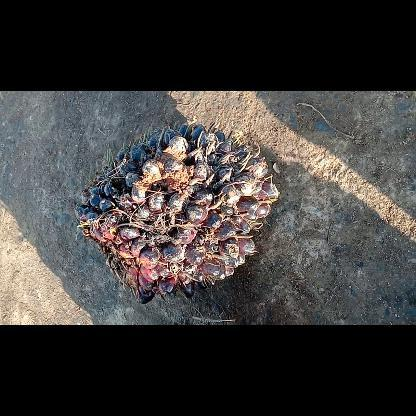TBS mentah: (70, 120, 282, 308)
